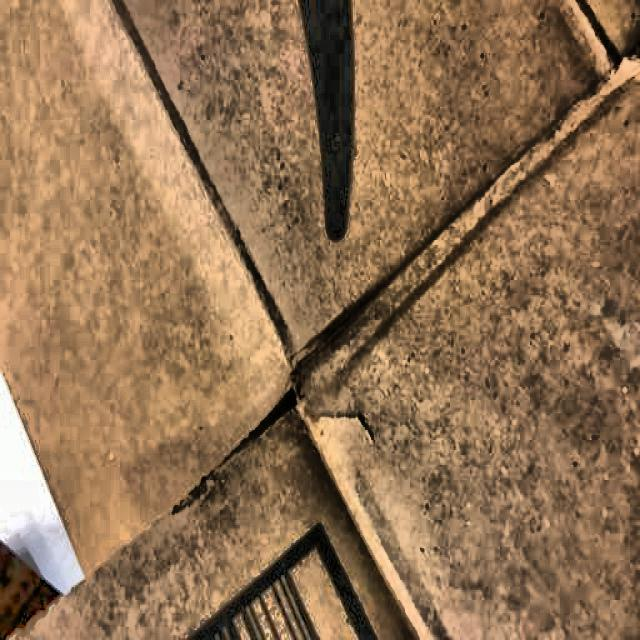cardboard: (0, 3, 640, 638)
